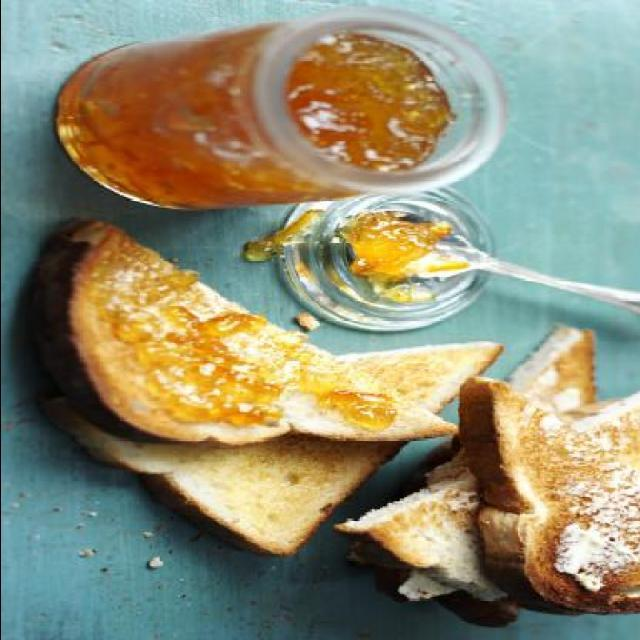Spread: (94, 250, 372, 432)
